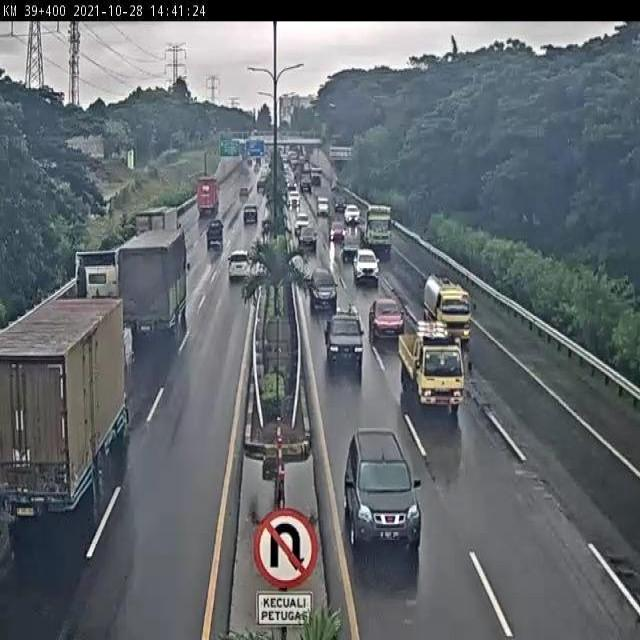big truck: (50, 248, 120, 341)
car: (340, 429, 422, 559), (324, 310, 364, 370), (369, 298, 406, 346), (308, 266, 338, 310), (352, 248, 380, 285), (227, 250, 253, 282)
mid truck: (0, 296, 128, 515), (116, 230, 190, 334), (134, 208, 181, 252)
truck-m-: (399, 318, 465, 418), (422, 273, 474, 351)
